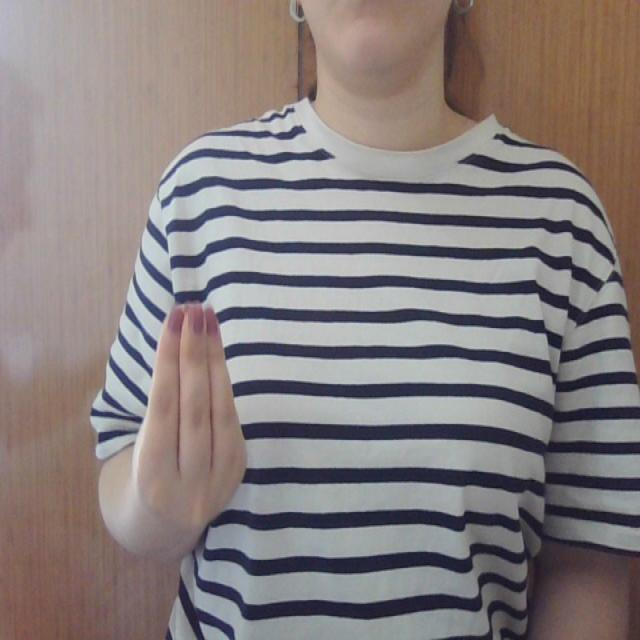iyi: (136, 293, 249, 528)
